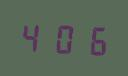four: (18, 17, 47, 55)
six: (79, 20, 108, 58)
zero: (49, 19, 78, 56)
